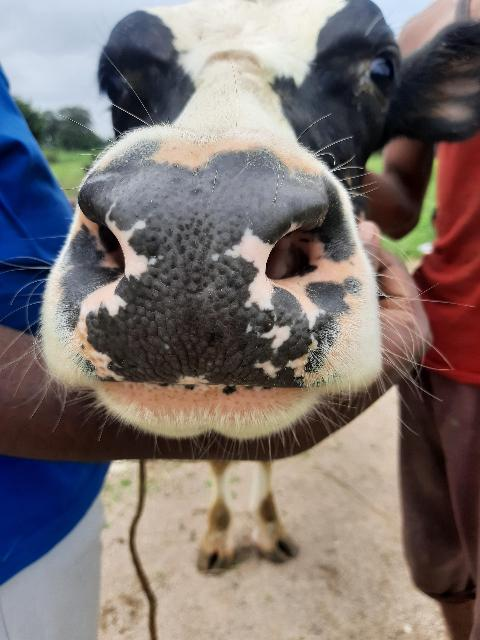Muzzle: (94, 170, 298, 382)
